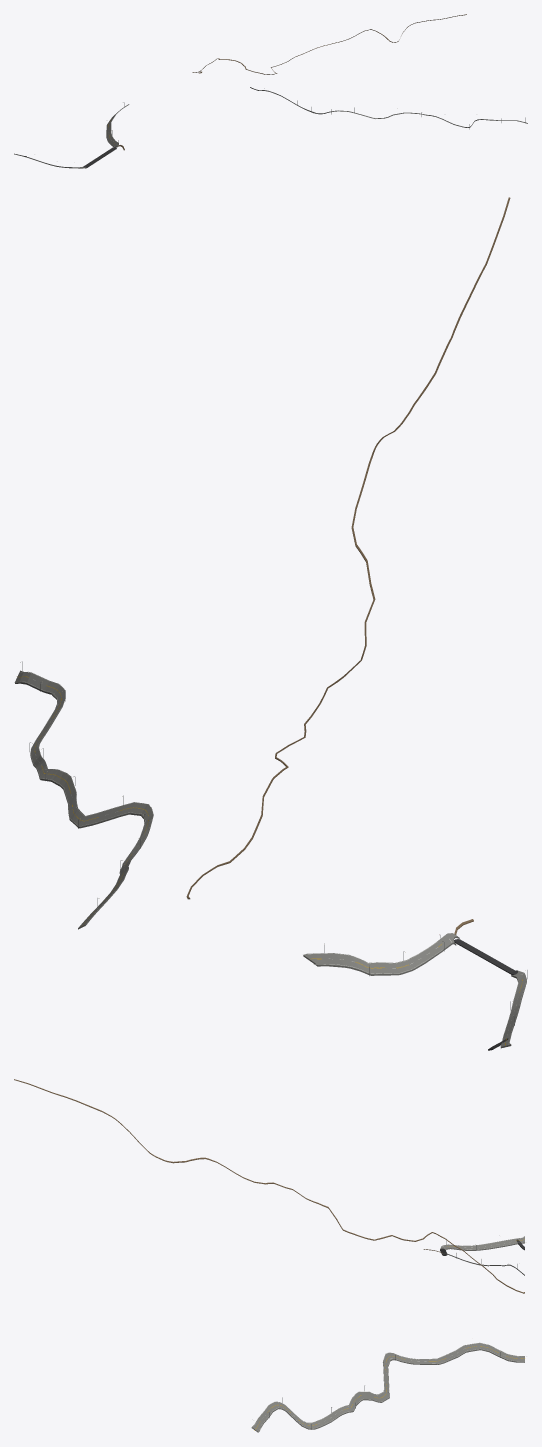
The picture shows the model from 3 angles, top to bottom: view 1: azimuth 30°, elevation 25°; view 2: azimuth 150°, elevation 25°; view 3: azimuth 270°, elevation 25°; orthographic projection. The views are drawn at different scales.
Bounding box in the file's own units: 588 × 365 × 587.
